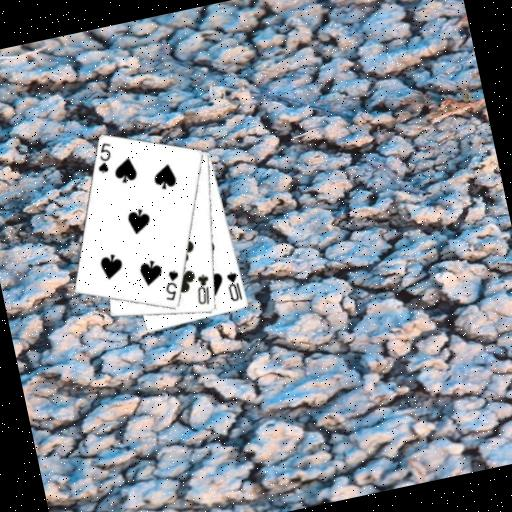10C: (189, 270, 215, 308)
10S: (222, 268, 244, 304)
5S: (90, 138, 118, 176), (157, 267, 185, 304)
